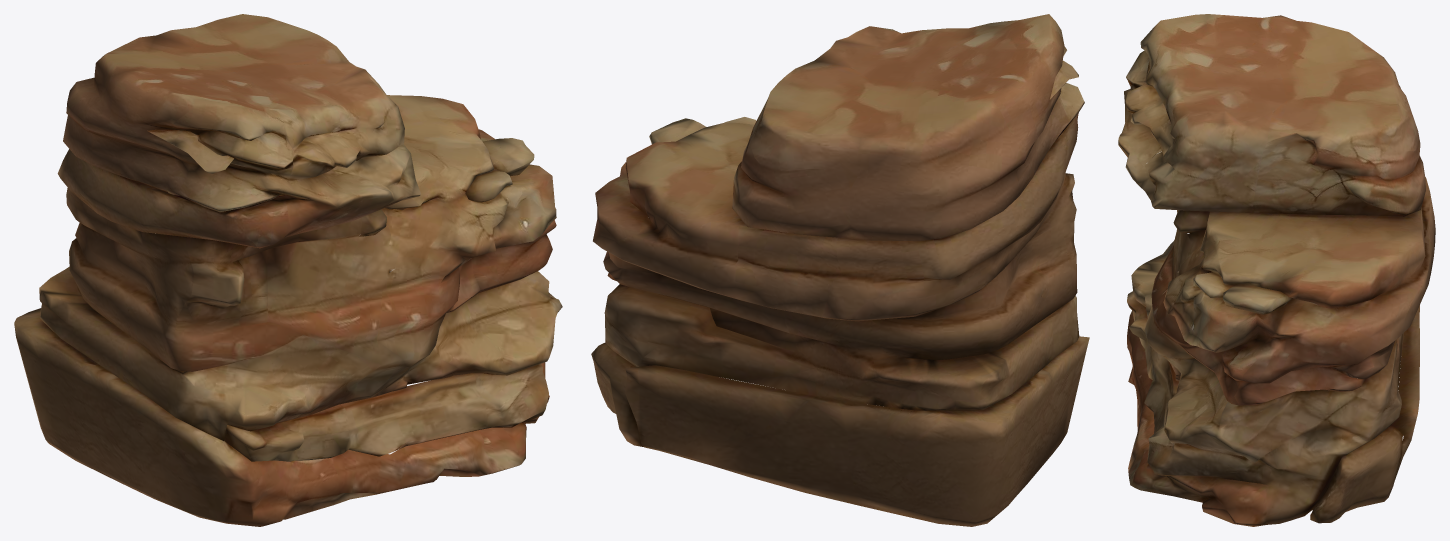
Rendered from ridge_rock.glb.
3 views of the same model, side by side, from view 1: azimuth 30°, elevation 25°; view 2: azimuth 150°, elevation 25°; view 3: azimuth 270°, elevation 25° (orthographic). The views are drawn at different scales.
Visible parts, largest first — view 1: tripo_node_235e1627-44a1-4009-ba2d-9c27ee19009c; view 2: tripo_node_235e1627-44a1-4009-ba2d-9c27ee19009c; view 3: tripo_node_235e1627-44a1-4009-ba2d-9c27ee19009c.
Part boxes in pixels (x1=…): tripo_node_235e1627-44a1-4009-ba2d-9c27ee19009c: x1=14, y1=14, x2=562, y2=526; tripo_node_235e1627-44a1-4009-ba2d-9c27ee19009c: x1=591, y1=14, x2=1089, y2=526; tripo_node_235e1627-44a1-4009-ba2d-9c27ee19009c: x1=1118, y1=14, x2=1435, y2=526.
Bounding box in the file's own units: 1.14 × 1 × 0.8099.
1 material, 1 textured.
